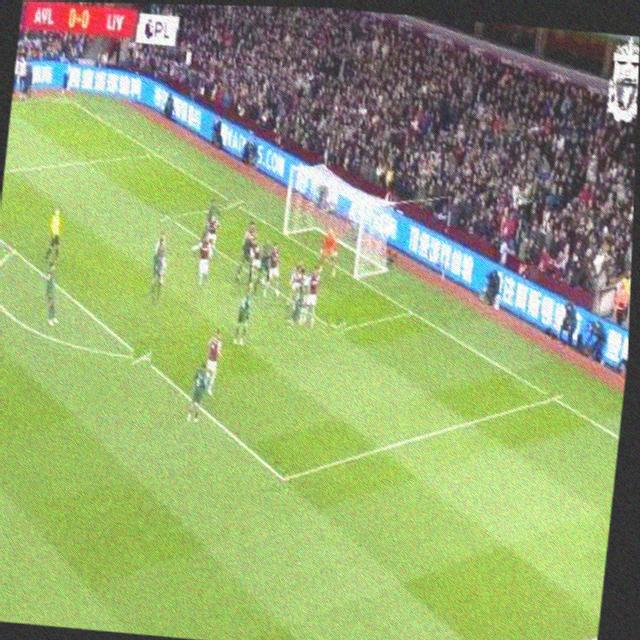bigarea_bottom_inner: (269, 461, 294, 494)
bigarea_bottom_outter: (541, 385, 561, 408)
bigarea_top_outter: (146, 142, 163, 160)
bottom_arc_area_intersection: (132, 344, 151, 368)
corner: (53, 89, 74, 104)
smallarea_bottom_inner: (325, 314, 346, 342)
smallarea_bottom_outter: (399, 298, 419, 321)
smallarea_top_inner: (158, 204, 176, 223)
smallarea_top_outter: (226, 192, 244, 214)
top_arc_area_intersection: (2, 239, 20, 259)
